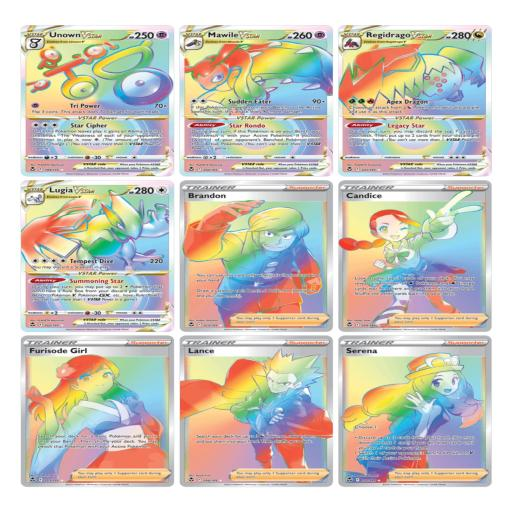card: (179, 24, 333, 177), (338, 24, 492, 177), (180, 334, 333, 488), (20, 180, 175, 332), (21, 335, 174, 488), (338, 335, 491, 488), (21, 25, 174, 177), (180, 180, 333, 332), (339, 180, 492, 332)
